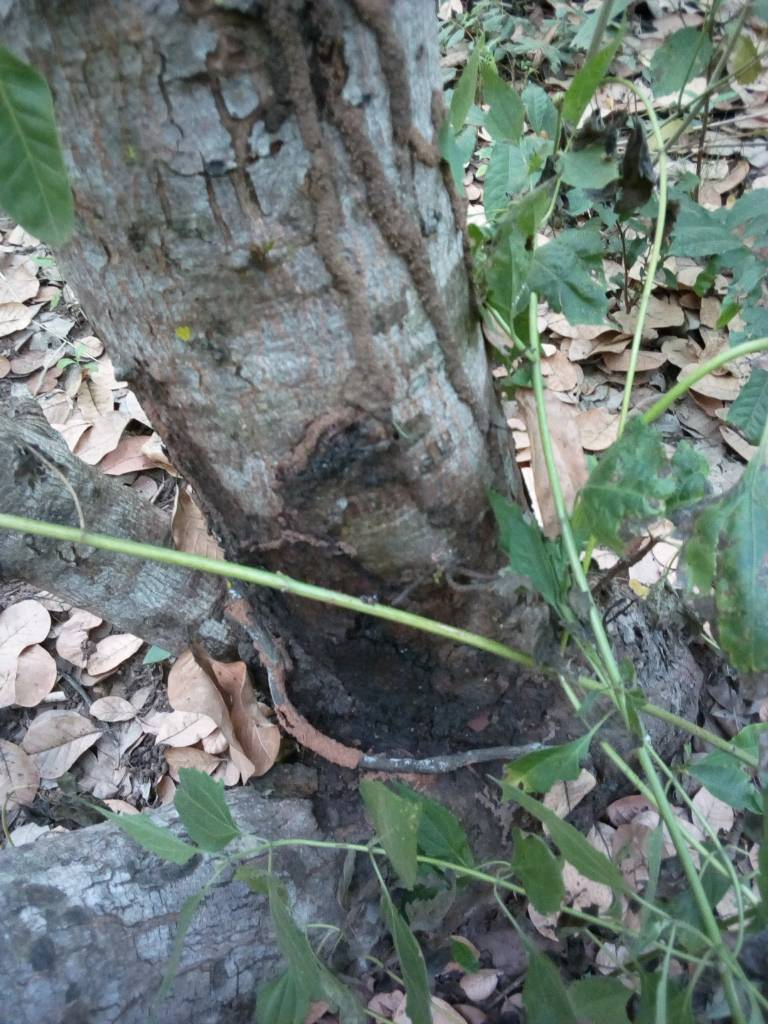Termites: (279, 3, 444, 474)
